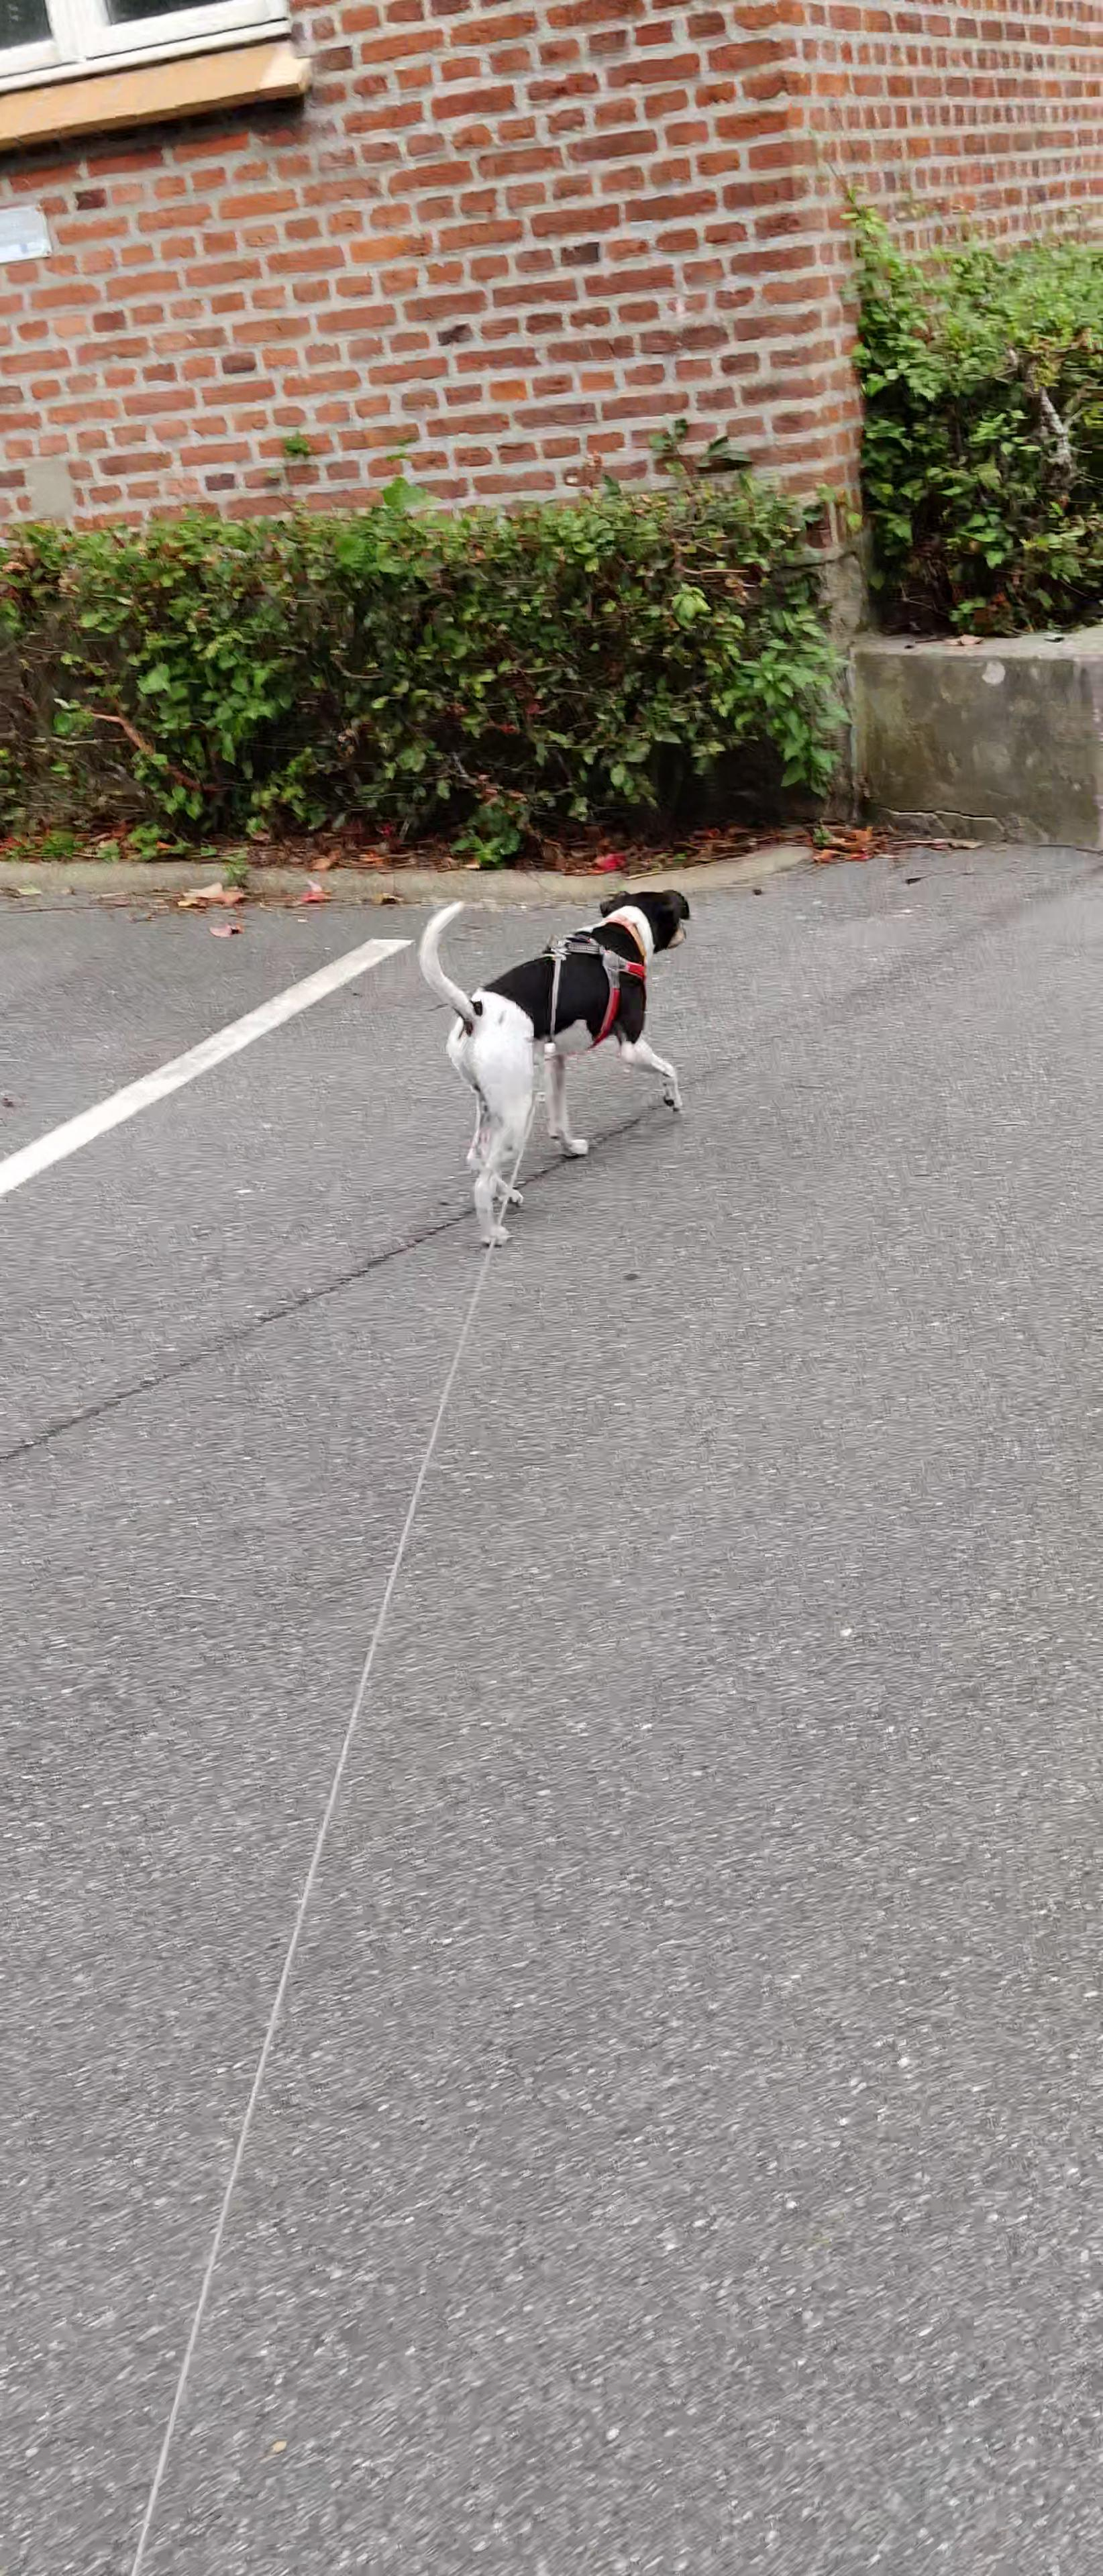Dog: (408, 882, 707, 1249)
